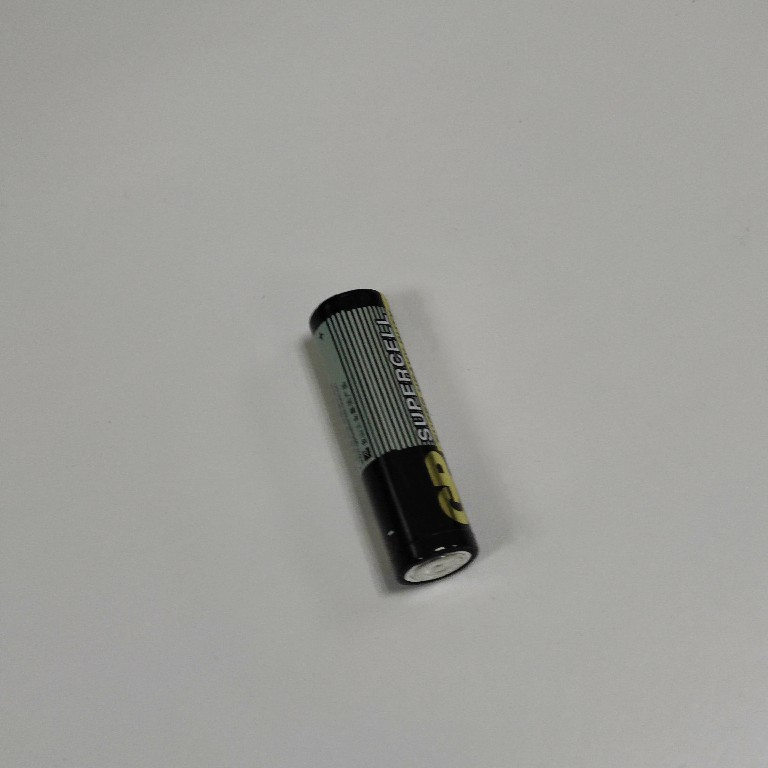charge: (302, 281, 481, 594)
